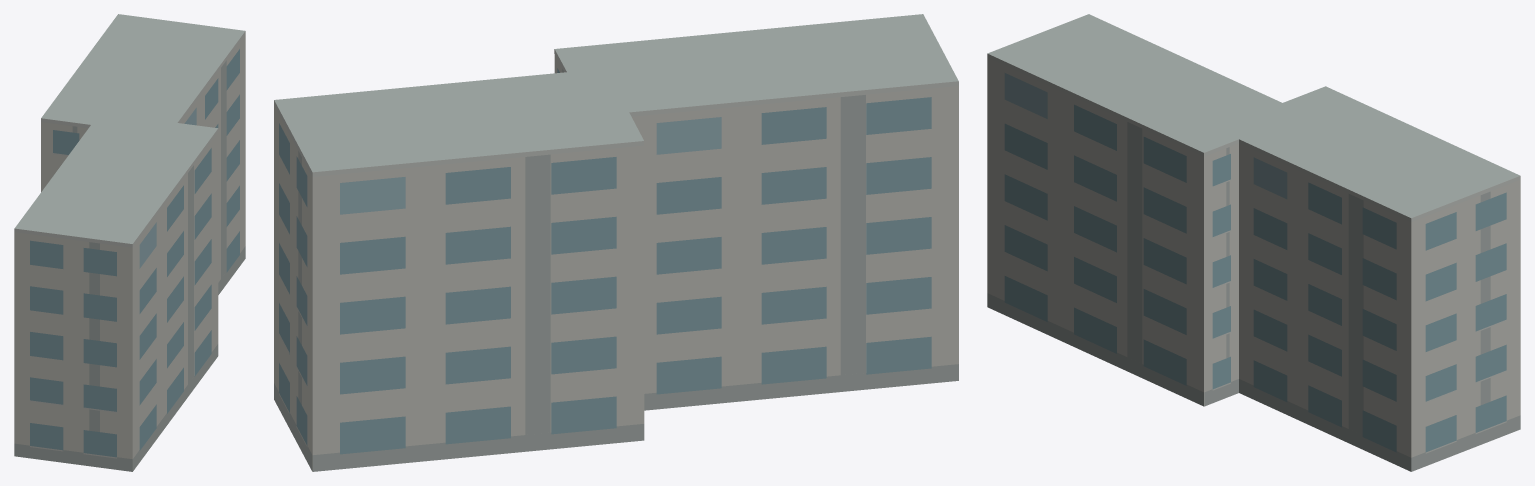
The model's file is residential-143bd64c-b3ec-48ed-ba68-f265a282920c.glb.
3 renders of one model, left to right at view 1: azimuth 30°, elevation 25°; view 2: azimuth 150°, elevation 25°; view 3: azimuth 270°, elevation 25°, orthographic. The views are drawn at different scales.
Parts seen in each view (by area): view 1: residential-143bd64c-b3ec-48ed-ba68-f265a282920c.tmp; view 2: residential-143bd64c-b3ec-48ed-ba68-f265a282920c.tmp; view 3: residential-143bd64c-b3ec-48ed-ba68-f265a282920c.tmp.
Part boxes in pixels (x1,y1,x2,y2): residential-143bd64c-b3ec-48ed-ba68-f265a282920c.tmp: (14, 14, 245, 471); residential-143bd64c-b3ec-48ed-ba68-f265a282920c.tmp: (274, 14, 958, 471); residential-143bd64c-b3ec-48ed-ba68-f265a282920c.tmp: (987, 14, 1520, 471).
Bounding box in the file's own units: 26.34 × 15.25 × 29.06.
